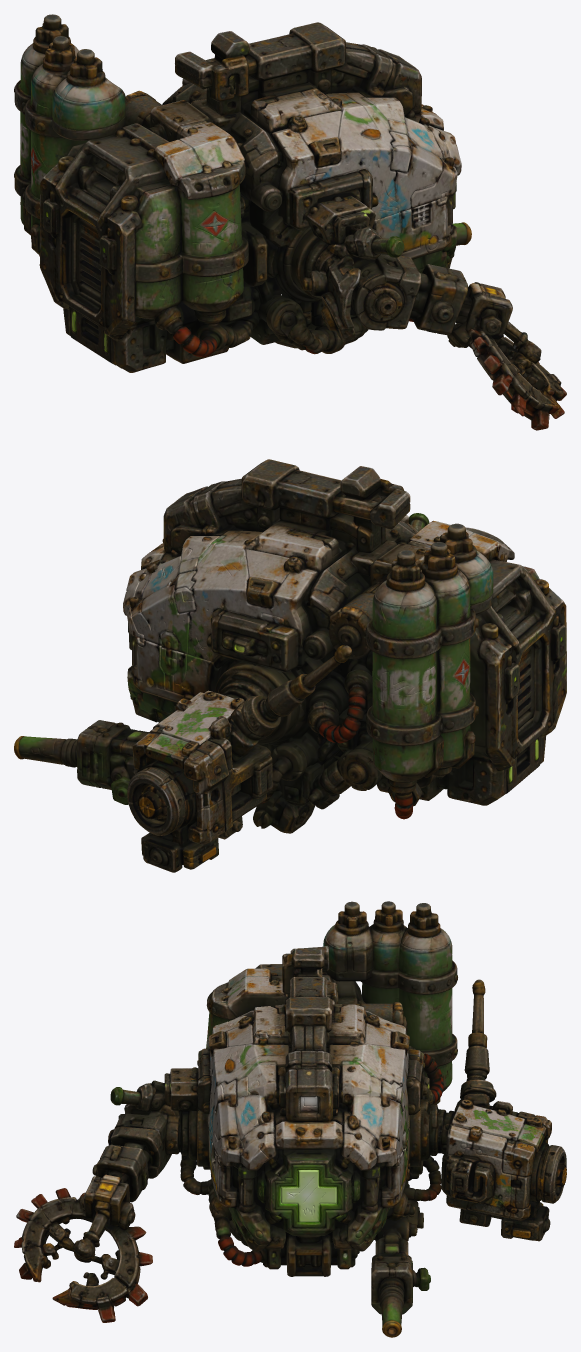
Rendered from welder_t1.glb.
3 renders of one model, top to bottom at view 1: azimuth 30°, elevation 25°; view 2: azimuth 150°, elevation 25°; view 3: azimuth 270°, elevation 25°, orthographic. The views are drawn at different scales.
Visible parts, largest first — view 1: tripo_node_b04f74fb-8acb-475c-b57c-f1b4840c8b34; view 2: tripo_node_b04f74fb-8acb-475c-b57c-f1b4840c8b34; view 3: tripo_node_b04f74fb-8acb-475c-b57c-f1b4840c8b34.
Boxes of the visible parts, x1,y1,x2,y2 form: tripo_node_b04f74fb-8acb-475c-b57c-f1b4840c8b34: [14, 14, 566, 430]; tripo_node_b04f74fb-8acb-475c-b57c-f1b4840c8b34: [14, 459, 566, 872]; tripo_node_b04f74fb-8acb-475c-b57c-f1b4840c8b34: [14, 901, 566, 1337].
Bounding box in the file's own units: 0.8016 × 0.5543 × 0.9794.
1 material, 1 textured.
